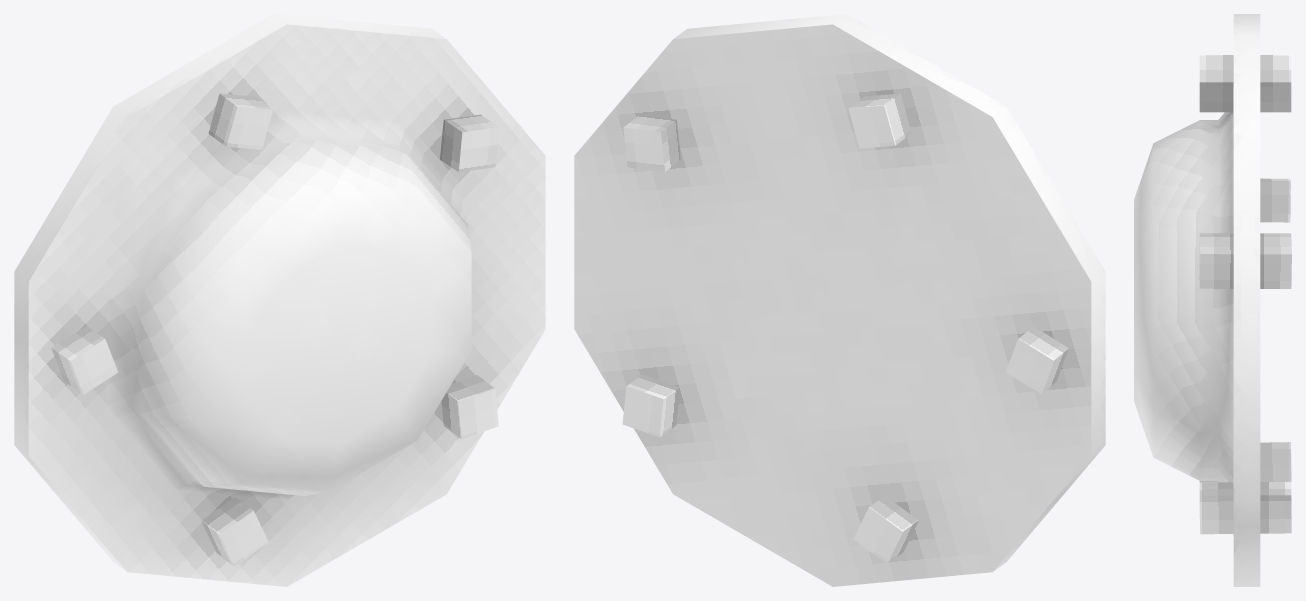
Rendered from PipeCap.glb.
The picture shows the model from 3 angles, left to right: view 1: azimuth 30°, elevation 25°; view 2: azimuth 150°, elevation 25°; view 3: azimuth 270°, elevation 25°; orthographic projection. The views are drawn at different scales.
Visible parts, largest first — view 1: PipeCap; view 2: PipeCap; view 3: PipeCap.
Part boxes in pixels (x1,y1,x2,y2): PipeCap: [14, 14, 545, 586]; PipeCap: [574, 14, 1105, 586]; PipeCap: [1134, 14, 1291, 586].
Bounding box in the file's own units: 0.3965 × 0.4124 × 0.1119.
1 material, 1 textured.
